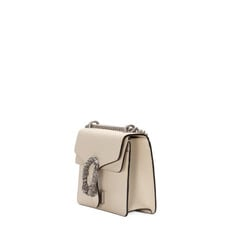Gucci: (61, 111, 162, 218), (81, 152, 107, 199)
